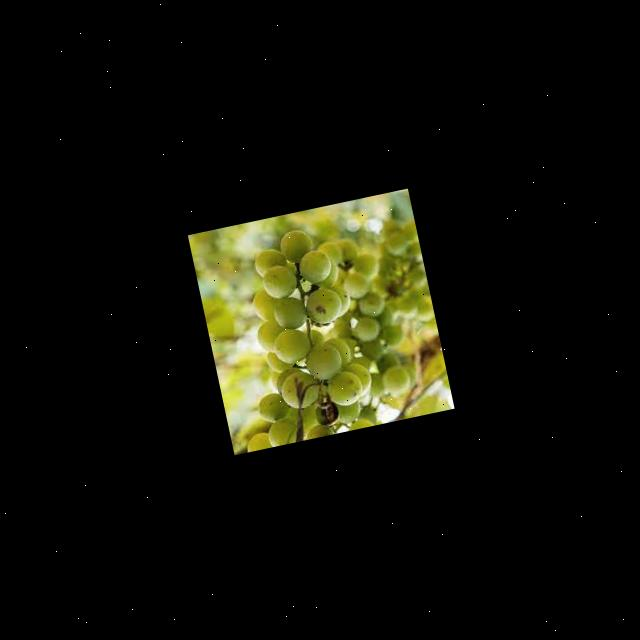grape: (190, 202, 452, 453)
